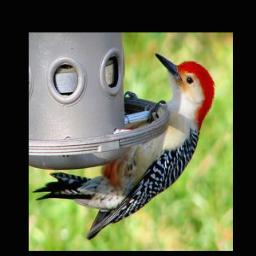Woodpecker: (33, 53, 215, 241)
